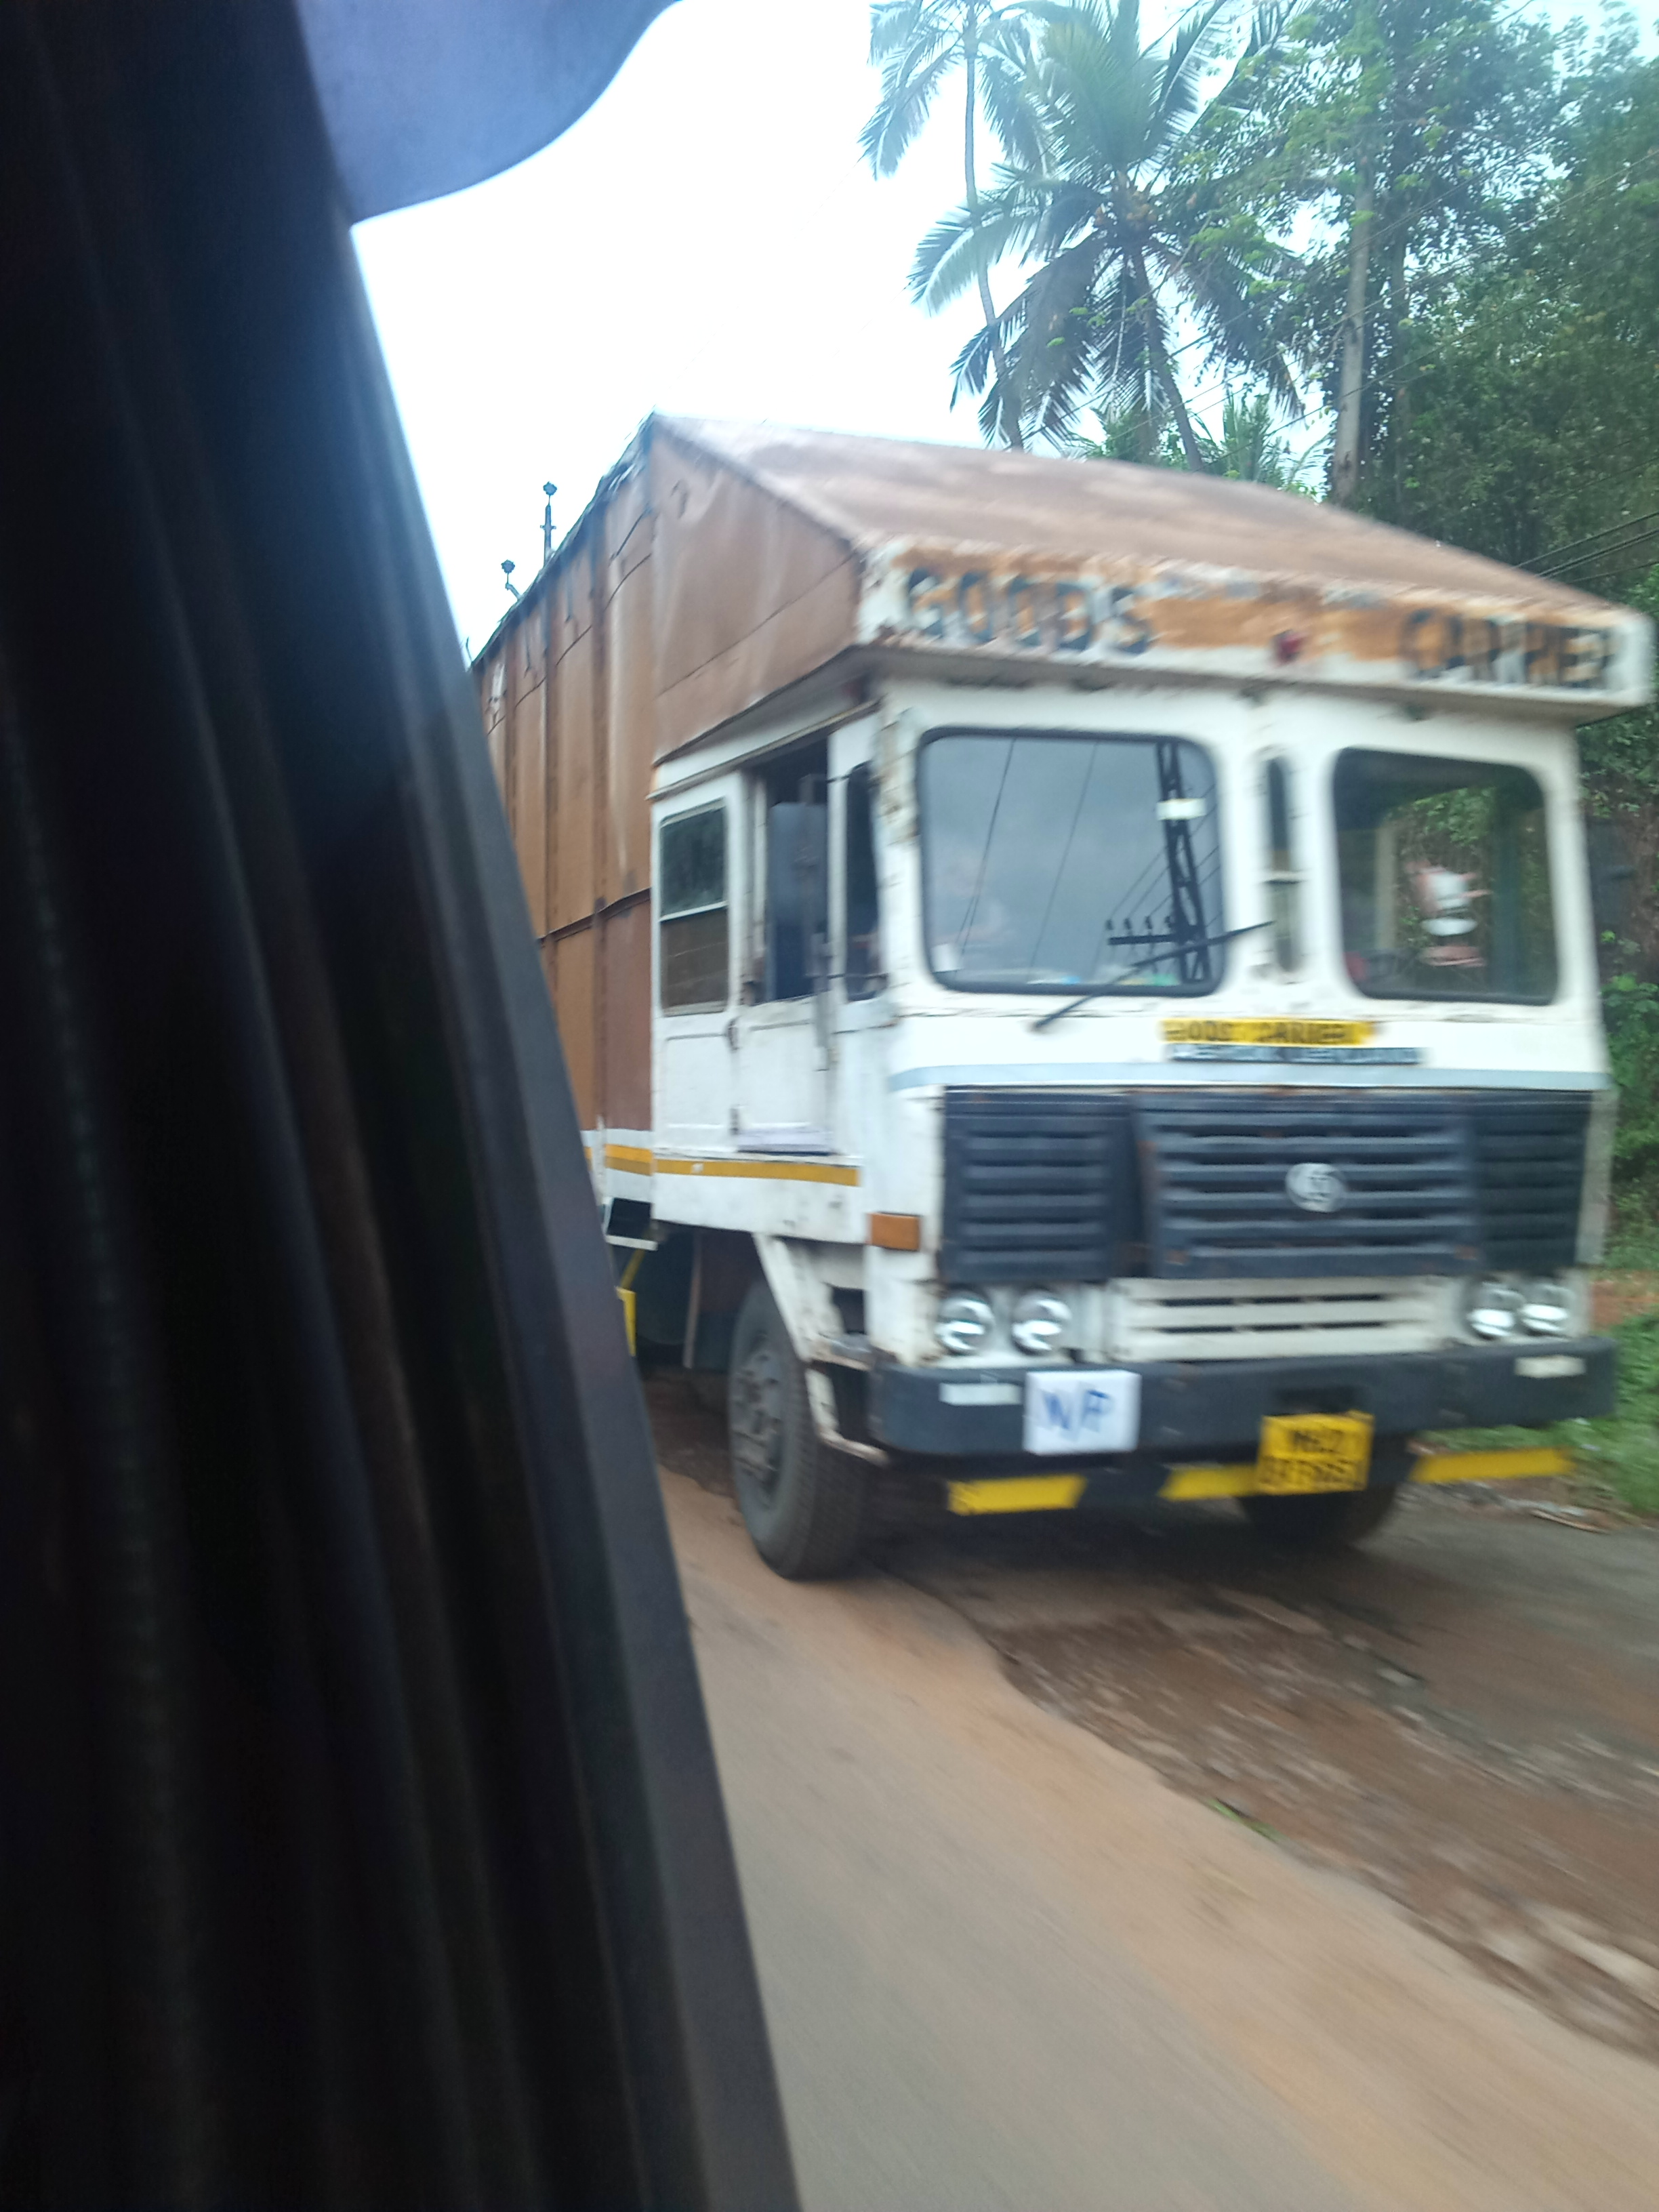truck: (464, 404, 1659, 1585)
